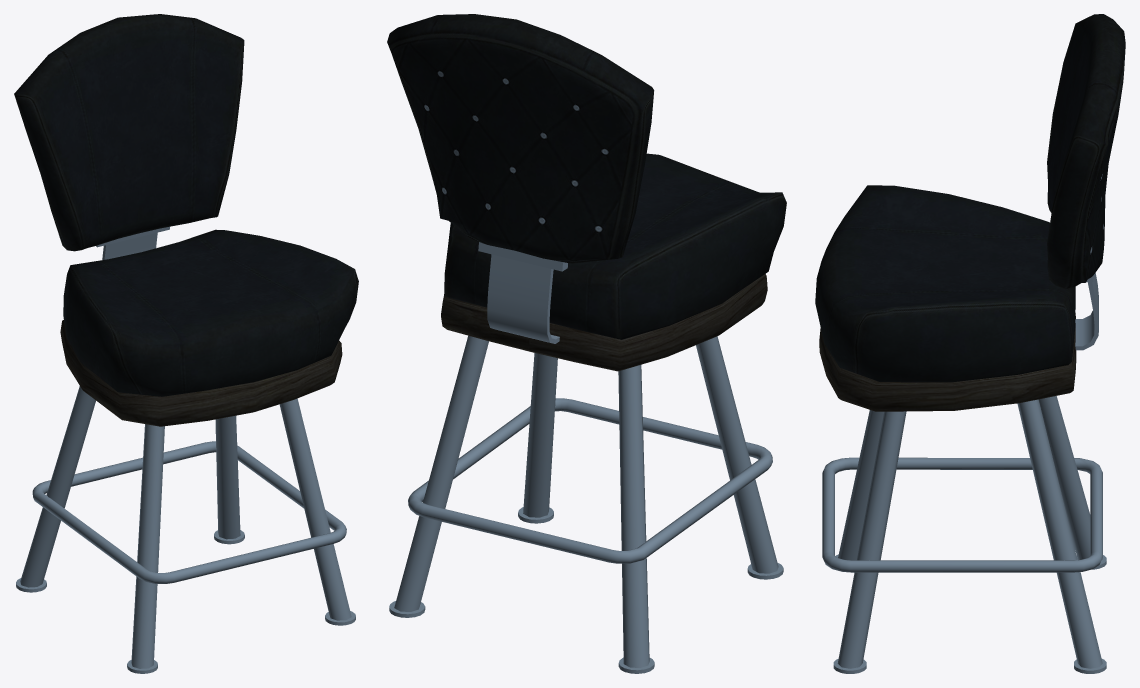
File: chair.glb
3 views of the same model, side by side, from view 1: azimuth 30°, elevation 25°; view 2: azimuth 150°, elevation 25°; view 3: azimuth 270°, elevation 25° (orthographic). The views are drawn at different scales.
Visible parts, largest first — view 1: chair_01; view 2: chair_01; view 3: chair_01.
Part boxes in pixels (left/top/right/bottom): chair_01: left=14, top=14, right=358, bottom=673; chair_01: left=387, top=14, right=786, bottom=673; chair_01: left=815, top=14, right=1125, bottom=673.
Bounding box in the file's own units: 64.12 × 134 × 64.89.
Materials: 1 (1 with a texture image).
